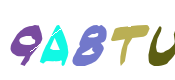8: (47, 0, 127, 80)
9: (16, 0, 96, 80)
A: (22, 0, 102, 80)
T: (91, 0, 171, 80)
U: (94, 0, 174, 80)
